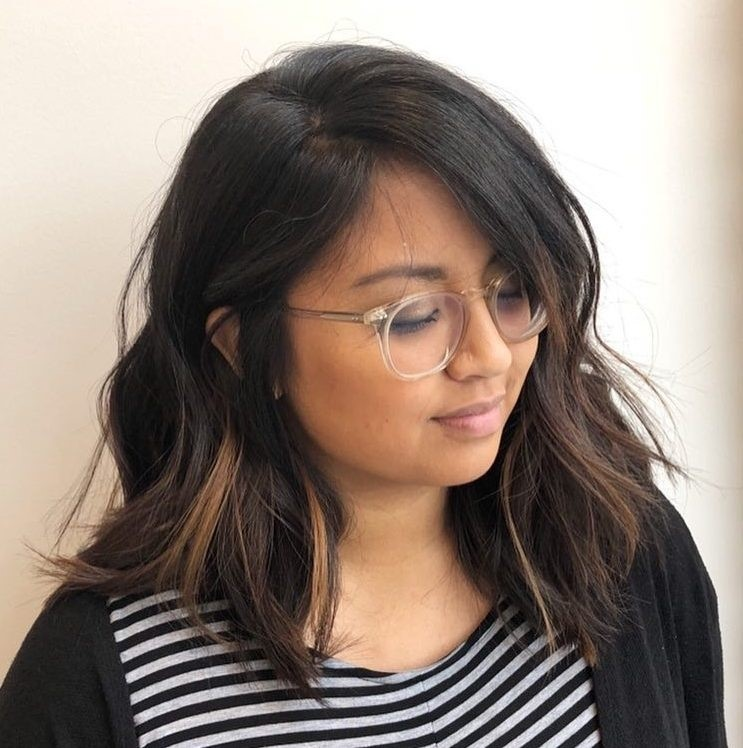face_no_mask: (215, 65, 554, 509)
